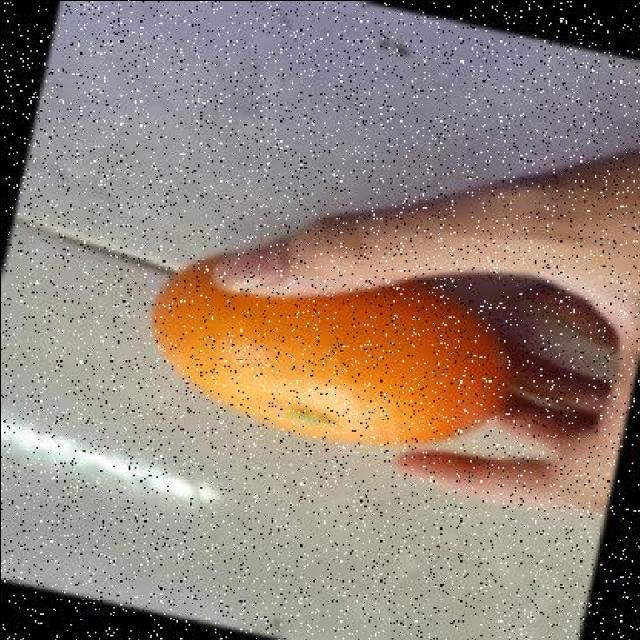Orange: (150, 263, 514, 449)
